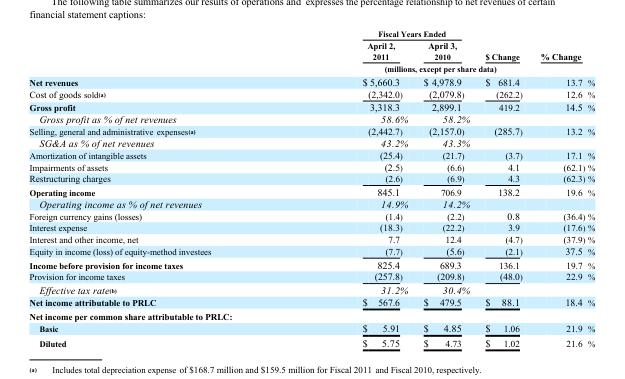table: (28, 28, 594, 347)
table column: (28, 28, 286, 347), (286, 28, 414, 347), (530, 28, 594, 347), (414, 28, 476, 347), (476, 28, 530, 347)
table column header: (28, 28, 594, 74)
table projected row header: (28, 309, 594, 321)
table row: (28, 38, 594, 61), (28, 295, 594, 309), (28, 321, 594, 335), (28, 61, 594, 74), (28, 74, 594, 87), (28, 87, 594, 100), (28, 100, 594, 113), (28, 184, 594, 197), (28, 244, 594, 257), (28, 257, 594, 270), (28, 282, 594, 295), (28, 124, 594, 136), (28, 136, 594, 148), (28, 148, 594, 160), (28, 160, 594, 172), (28, 172, 594, 184), (28, 197, 594, 209), (28, 209, 594, 221), (28, 221, 594, 233), (28, 270, 594, 282), (28, 309, 594, 321), (28, 335, 594, 347), (28, 113, 594, 124), (28, 233, 594, 244), (28, 28, 594, 38)
table spanning cell: (286, 61, 530, 74), (530, 28, 594, 74), (286, 28, 476, 38), (476, 28, 530, 61)
